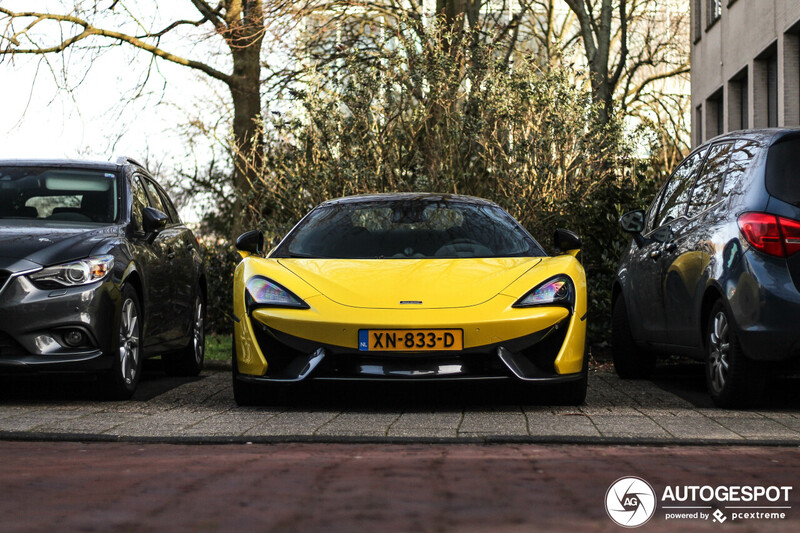kenteken: (359, 329, 462, 351)
